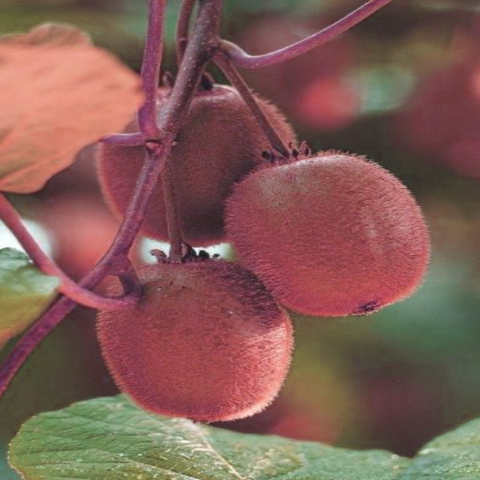kiwi: (79, 242, 326, 425), (98, 77, 316, 259), (218, 147, 447, 318)
